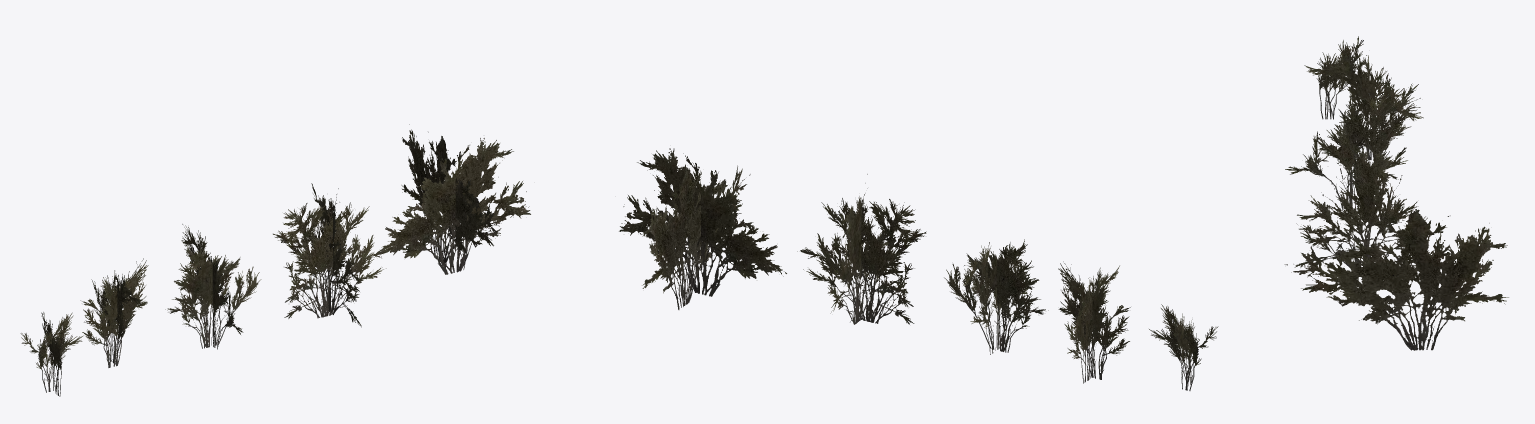
File: wild_rooibos_bush_far.glb
3 renders of one model, left to right at view 1: azimuth 30°, elevation 25°; view 2: azimuth 150°, elevation 25°; view 3: azimuth 270°, elevation 25°, orthographic. The views are drawn at different scales.
Visible parts, largest first — view 1: wild_rooibos_bush_a, wild_rooibos_bush_b, wild_rooibos_bush_c, wild_rooibos_bush_d, wild_rooibos_bush_e; view 2: wild_rooibos_bush_a, wild_rooibos_bush_b, wild_rooibos_bush_c, wild_rooibos_bush_d, wild_rooibos_bush_e; view 3: wild_rooibos_bush_a, wild_rooibos_bush_b, wild_rooibos_bush_c, wild_rooibos_bush_d, wild_rooibos_bush_e.
Part boxes in pixels (x1=…): wild_rooibos_bush_a: x1=381, y1=124, x2=530, y2=274; wild_rooibos_bush_b: x1=273, y1=183, x2=389, y2=327; wild_rooibos_bush_c: x1=165, y1=224, x2=261, y2=349; wild_rooibos_bush_d: x1=80, y1=258, x2=148, y2=367; wild_rooibos_bush_e: x1=20, y1=312, x2=83, y2=396; wild_rooibos_bush_a: x1=619, y1=148, x2=786, y2=309; wild_rooibos_bush_b: x1=797, y1=174, x2=926, y2=324; wild_rooibos_bush_c: x1=944, y1=239, x2=1048, y2=354; wild_rooibos_bush_d: x1=1058, y1=261, x2=1130, y2=383; wild_rooibos_bush_e: x1=1149, y1=304, x2=1218, y2=390; wild_rooibos_bush_a: x1=1284, y1=209, x2=1508, y2=350; wild_rooibos_bush_b: x1=1294, y1=130, x2=1427, y2=267; wild_rooibos_bush_c: x1=1285, y1=90, x2=1423, y2=209; wild_rooibos_bush_d: x1=1304, y1=53, x2=1418, y2=160; wild_rooibos_bush_e: x1=1316, y1=36, x2=1363, y2=119.
Bounding box in the file's own units: 2.39 × 0.8774 × 0.8772.
10 materials, 10 textured.
